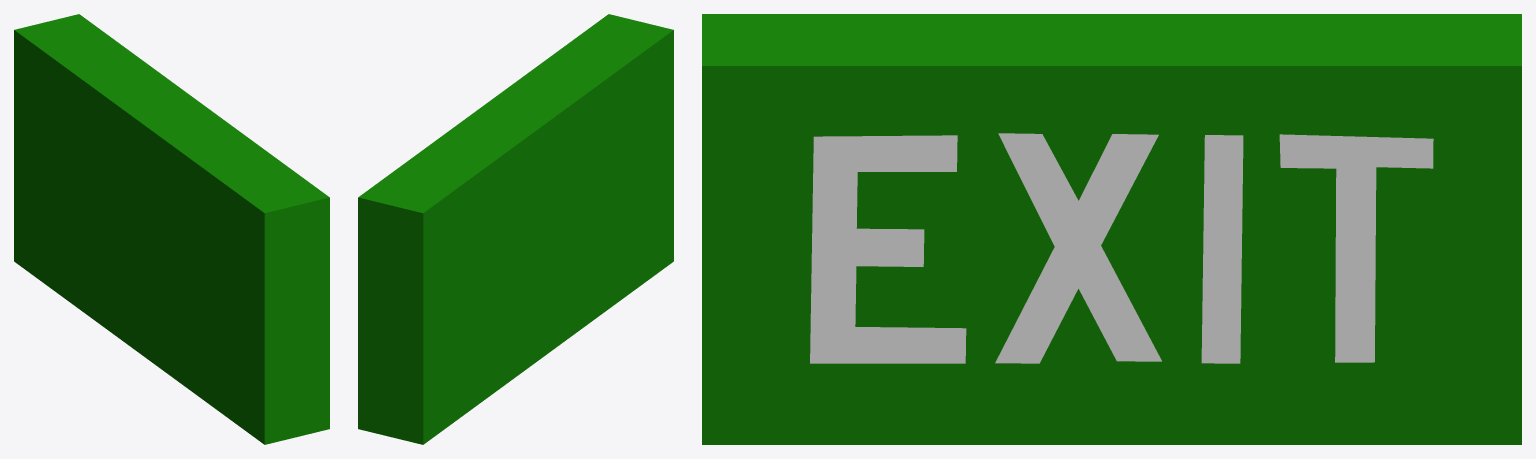
File: Sign.fbx
3 views of the same model, side by side, from view 1: azimuth 30°, elevation 25°; view 2: azimuth 150°, elevation 25°; view 3: azimuth 270°, elevation 25° (orthographic). The views are drawn at different scales.
Visible parts, largest first — view 1: Cube; view 2: Cube; view 3: Cube, Plane.
Part boxes in pixels (x1,y1,x2,y2): Cube: (14, 14, 329, 444); Cube: (358, 14, 673, 444); Cube: (702, 14, 1521, 444); Plane: (810, 133, 1433, 363).
Size of the model in its own units: 30 by 102 by 200.
Materials: 2 (2 with a texture image).
